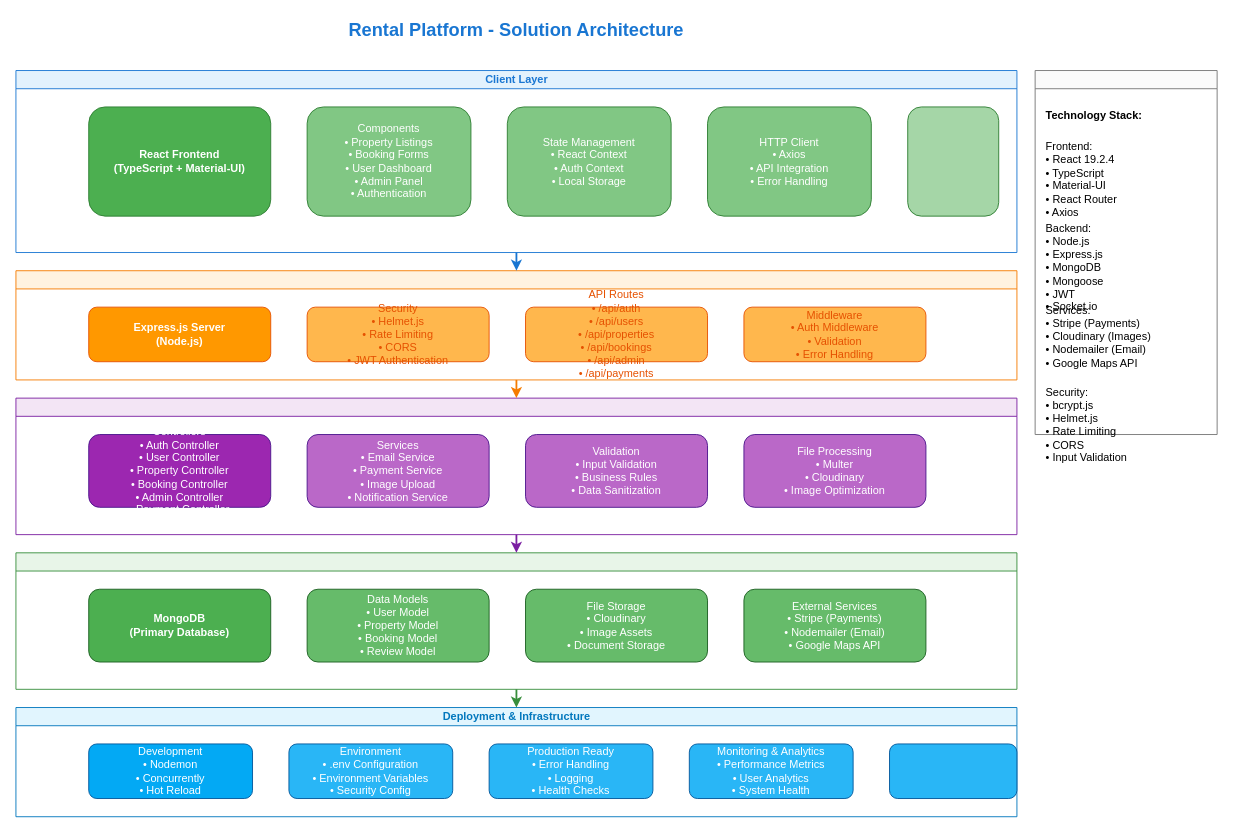
Some shapes in this 1233 by 833 pixel diagram are drawn without their labels. Each missing label, with the box of its shape:
API Gateway & Security Layer: (15, 270, 1017, 380)
Architecture Legend: (1034, 70, 1217, 435)
Business Logic Layer: (15, 397, 1017, 535)
Data Layer: (15, 552, 1017, 689)
Scalability • Load Balancing • Caching Strategy • CDN Integration: (889, 743, 1017, 799)
Web/Mobile Access • Responsive Design • Progressive Web App: (907, 106, 999, 216)
